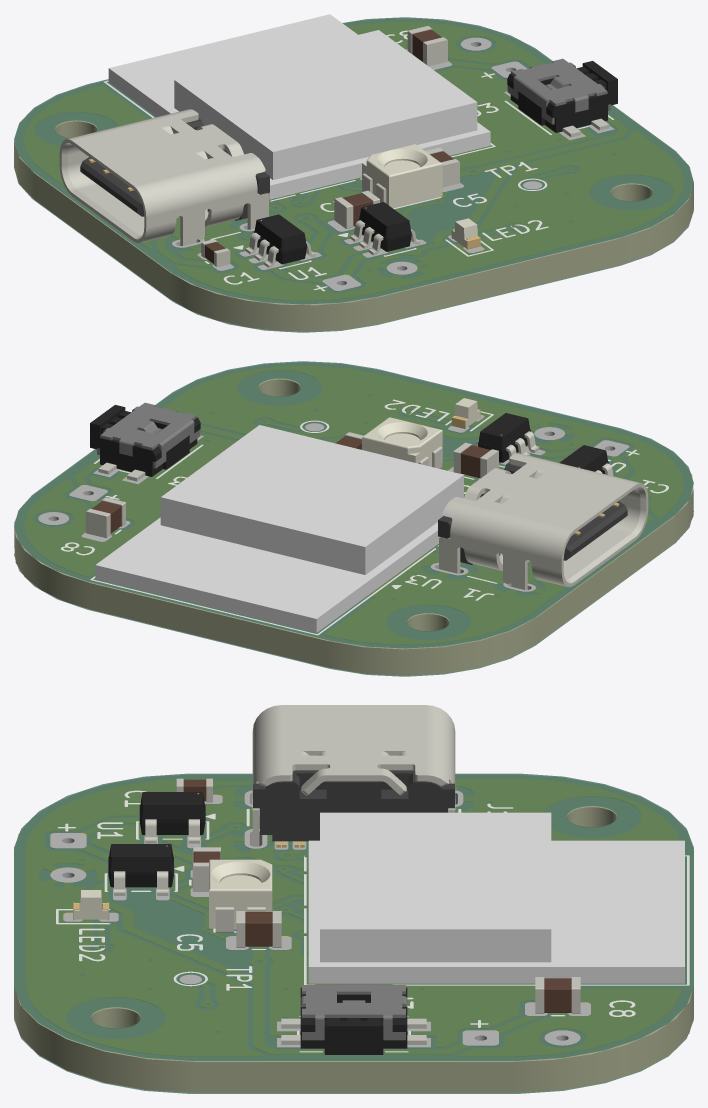
Rendered from board.glb.
3 renders of one model, top to bottom at view 1: azimuth 30°, elevation 25°; view 2: azimuth 150°, elevation 25°; view 3: azimuth 270°, elevation 25°, orthographic. The views are drawn at different scales.
Visible parts, largest first — view 1: =>[0:1:1:29], =>[0:1:1:5]_a872f6, =>[0:1:1:24]_11421b, =>[0:1:1:31]_5f3f50, =>[0:1:1:24]_d0a076, =>[0:1:1:5]_ff8055, =>[0:1:1:31]_83ac69, =>[0:1:1:5]_77e52d, =>[0:1:1:31]_2be0ef, =>[0:1:1:15]_3726d0, =>[0:1:1:31]_26c29a, =>[0:1:1:15]_87cc3a (+21 smaller); view 2: =>[0:1:1:29], =>[0:1:1:5]_a872f6, =>[0:1:1:24]_d0a076, =>[0:1:1:24]_11421b, =>[0:1:1:5]_ff8055, =>[0:1:1:31]_5f3f50, =>[0:1:1:31]_ced8c0, =>[0:1:1:5]_319f96, =>[0:1:1:31]_71f9ec, =>[0:1:1:15]_ac8306, =>[0:1:1:31]_26c29a, =>[0:1:1:15]_7ce378 (+24 smaller); view 3: =>[0:1:1:29], =>[0:1:1:5]_a872f6, =>[0:1:1:24]_11421b, =>[0:1:1:31]_5f3f50, =>[0:1:1:24]_d0a076, =>[0:1:1:5]_ff8055, =>[0:1:1:31]_5550c4, =>[0:1:1:5]_5b006b, =>[0:1:1:5]_e2a213, =>[0:1:1:31]_2c30f0, =>[0:1:1:31]_7a733f, =>[0:1:1:15]_7ce378 (+23 smaller).
Part boxes in pixels (x1=…): =>[0:1:1:29]: x1=14, y1=17, x2=693, y2=304; =>[0:1:1:5]_a872f6: x1=174, y1=30, x2=476, y2=151; =>[0:1:1:24]_11421b: x1=173, y1=131, x2=683, y2=299; =>[0:1:1:31]_5f3f50: x1=14, y1=19, x2=692, y2=305; =>[0:1:1:24]_d0a076: x1=24, y1=22, x2=595, y2=247; =>[0:1:1:5]_ff8055: x1=109, y1=14, x2=490, y2=185; =>[0:1:1:31]_83ac69: x1=381, y1=239, x2=616, y2=322; =>[0:1:1:5]_77e52d: x1=273, y1=102, x2=477, y2=179; =>[0:1:1:31]_2be0ef: x1=170, y1=273, x2=381, y2=331; =>[0:1:1:15]_3726d0: x1=134, y1=156, x2=265, y2=217; =>[0:1:1:31]_26c29a: x1=34, y1=174, x2=170, y2=298; =>[0:1:1:15]_87cc3a: x1=72, y1=111, x2=225, y2=163; =>[0:1:1:29]: x1=14, y1=361, x2=693, y2=648; =>[0:1:1:5]_a872f6: x1=161, y1=425, x2=463, y2=546; =>[0:1:1:24]_d0a076: x1=24, y1=433, x2=564, y2=643; =>[0:1:1:24]_11421b: x1=164, y1=366, x2=682, y2=517; =>[0:1:1:5]_ff8055: x1=96, y1=517, x2=437, y2=618; =>[0:1:1:31]_5f3f50: x1=14, y1=362, x2=693, y2=649; =>[0:1:1:31]_ced8c0: x1=91, y1=583, x2=326, y2=666; =>[0:1:1:5]_319f96: x1=160, y1=497, x2=365, y2=574; =>[0:1:1:31]_71f9ec: x1=326, y1=617, x2=537, y2=675; =>[0:1:1:15]_ac8306: x1=442, y1=500, x2=573, y2=561; =>[0:1:1:31]_26c29a: x1=537, y1=518, x2=673, y2=642; =>[0:1:1:15]_7ce378: x1=482, y1=455, x2=635, y2=507; =>[0:1:1:29]: x1=14, y1=773, x2=693, y2=1060; =>[0:1:1:5]_a872f6: x1=320, y1=812, x2=551, y2=929; =>[0:1:1:24]_11421b: x1=26, y1=780, x2=262, y2=1055; =>[0:1:1:31]_5f3f50: x1=14, y1=775, x2=693, y2=1061; =>[0:1:1:24]_d0a076: x1=176, y1=779, x2=680, y2=1055; =>[0:1:1:5]_ff8055: x1=308, y1=840, x2=684, y2=966; =>[0:1:1:31]_5550c4: x1=195, y1=1062, x2=512, y2=1092; =>[0:1:1:5]_5b006b: x1=320, y1=929, x2=551, y2=962; =>[0:1:1:5]_e2a213: x1=308, y1=967, x2=684, y2=983; =>[0:1:1:31]_2c30f0: x1=14, y1=987, x2=195, y2=1092; =>[0:1:1:31]_7a733f: x1=512, y1=987, x2=693, y2=1092; =>[0:1:1:15]_7ce378: x1=281, y1=705, x2=353, y2=775.
Size of the model in its own units: 0.03 by 0.00619 by 0.03.
